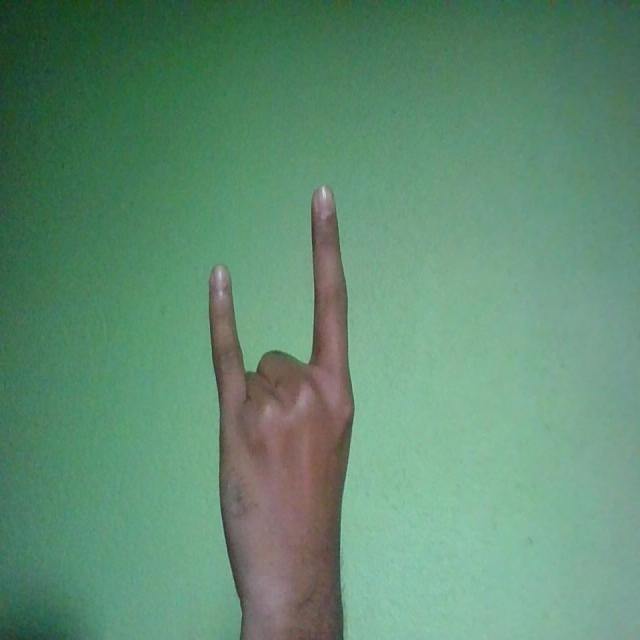open Plam: (208, 187, 355, 628)
